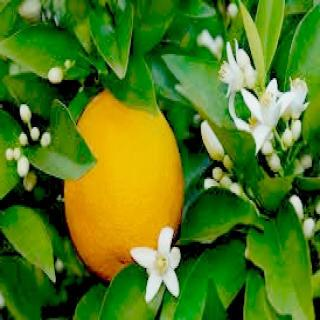orange: (51, 54, 182, 306)
